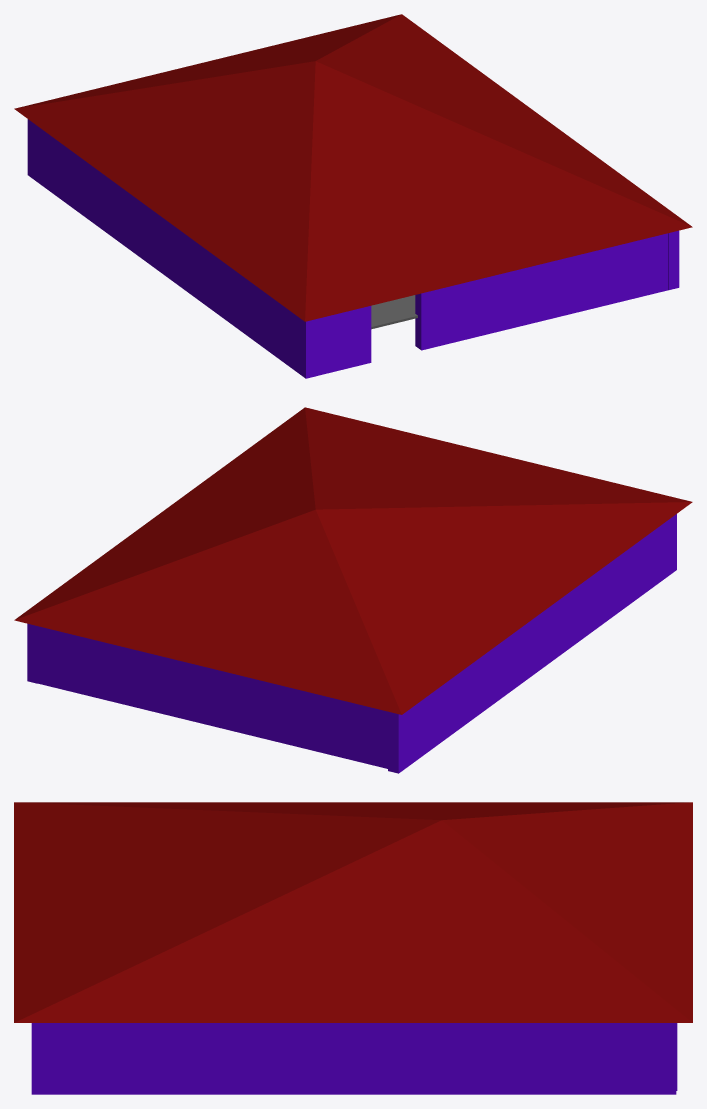
Rendered from Chess.fbx.
3 views of the same model, one above another, from view 1: azimuth 30°, elevation 25°; view 2: azimuth 150°, elevation 25°; view 3: azimuth 270°, elevation 25° (orthographic). The views are drawn at different scales.
Parts seen in each view (by area): view 1: Cone, Cube.065, Cube.069, Cube.068, Cube.064, Cube.066; view 2: Cone, Cube.067, Cube.065; view 3: Cone, Cube.066.
Part boxes in pixels (<box>): Cone: <box>14,14,692,321</box>; Cube.065: <box>27,119,316,378</box>; Cube.069: <box>415,233,667,350</box>; Cube.068: <box>316,306,371,375</box>; Cube.064: <box>371,295,417,329</box>; Cube.066: <box>668,230,679,290</box>; Cone: <box>14,407,692,714</box>; Cube.067: <box>32,625,387,768</box>; Cube.065: <box>388,514,676,773</box>; Cone: <box>14,802,692,1022</box>; Cube.066: <box>31,1023,676,1094</box>.
Size of the model in its own units: 7296 by 9480 by 2589.
